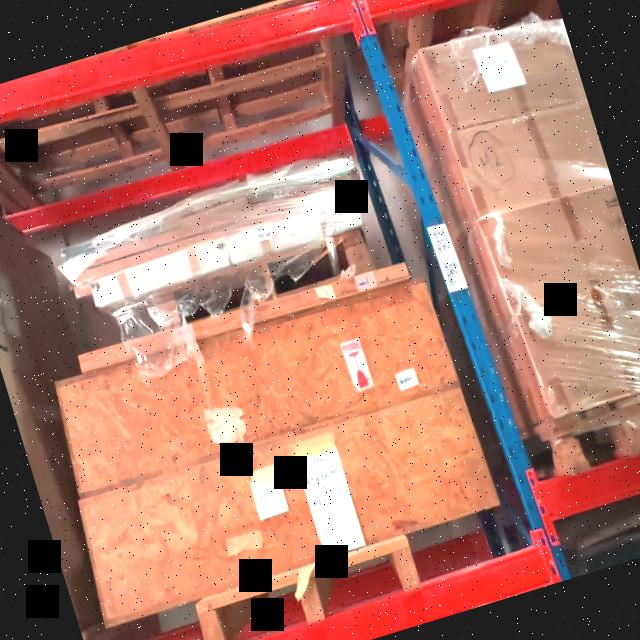box: (79, 387, 496, 622), (56, 276, 454, 496)
